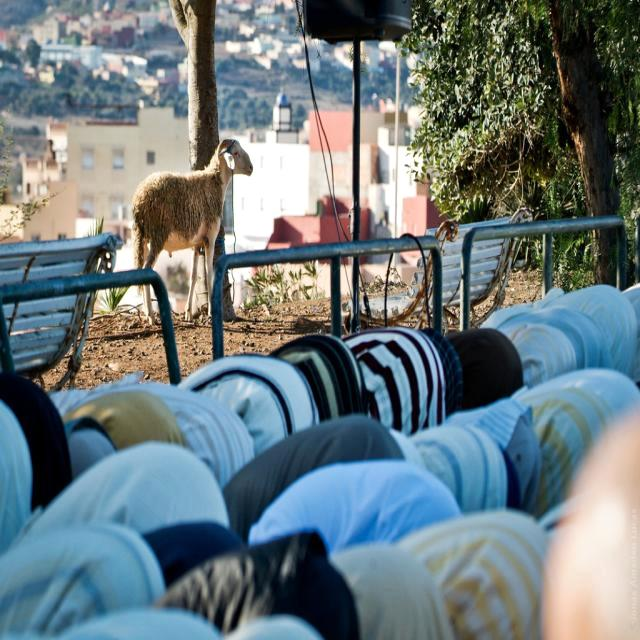sheep: (146, 138, 250, 314)
